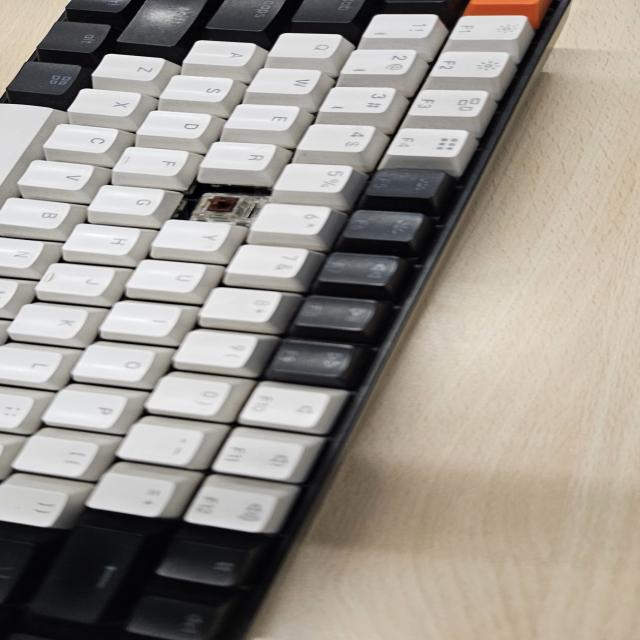C: (188, 184, 254, 218)
